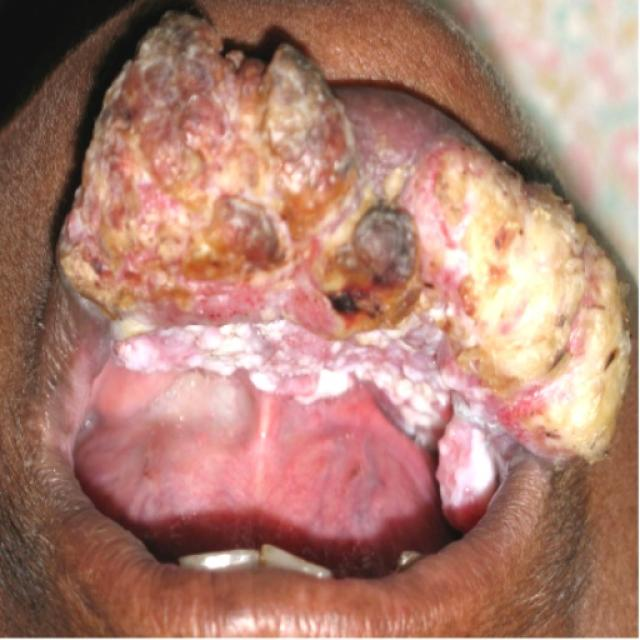cancer-detection: (51, 0, 634, 533)
processing_area: (37, 0, 635, 533)
